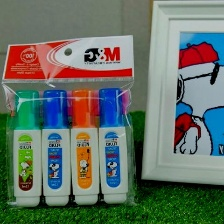correction_fluid: (96, 86, 130, 204), (11, 88, 44, 209), (69, 86, 102, 207), (40, 87, 73, 207)
